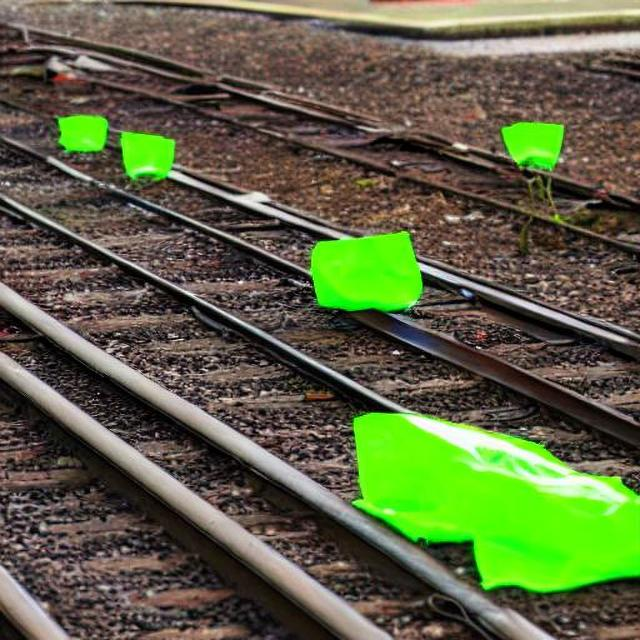plastic bag: (344, 407, 640, 610), (307, 230, 422, 312), (498, 120, 566, 172), (117, 131, 177, 182), (52, 108, 110, 156)
